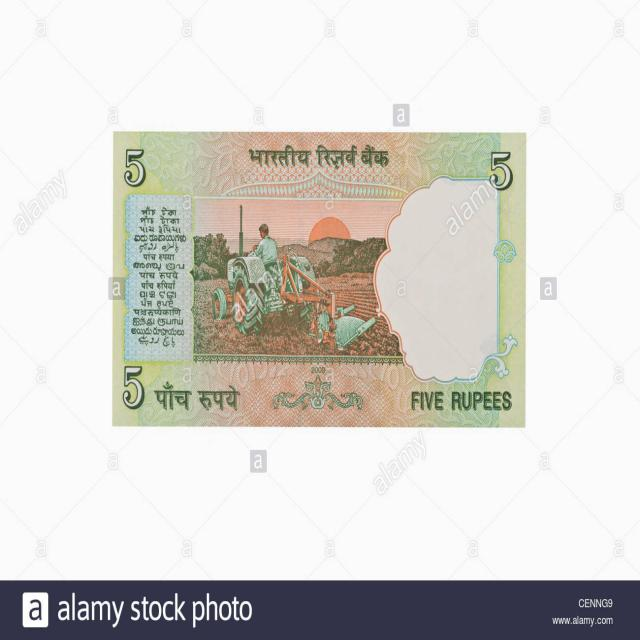5IndianRupees: (115, 130, 522, 428)
